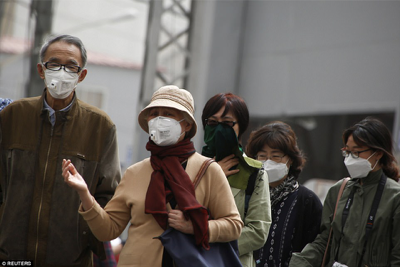with_mask: (41, 56, 82, 99), (149, 108, 186, 146), (255, 146, 290, 184), (203, 114, 241, 149), (342, 143, 378, 178)
